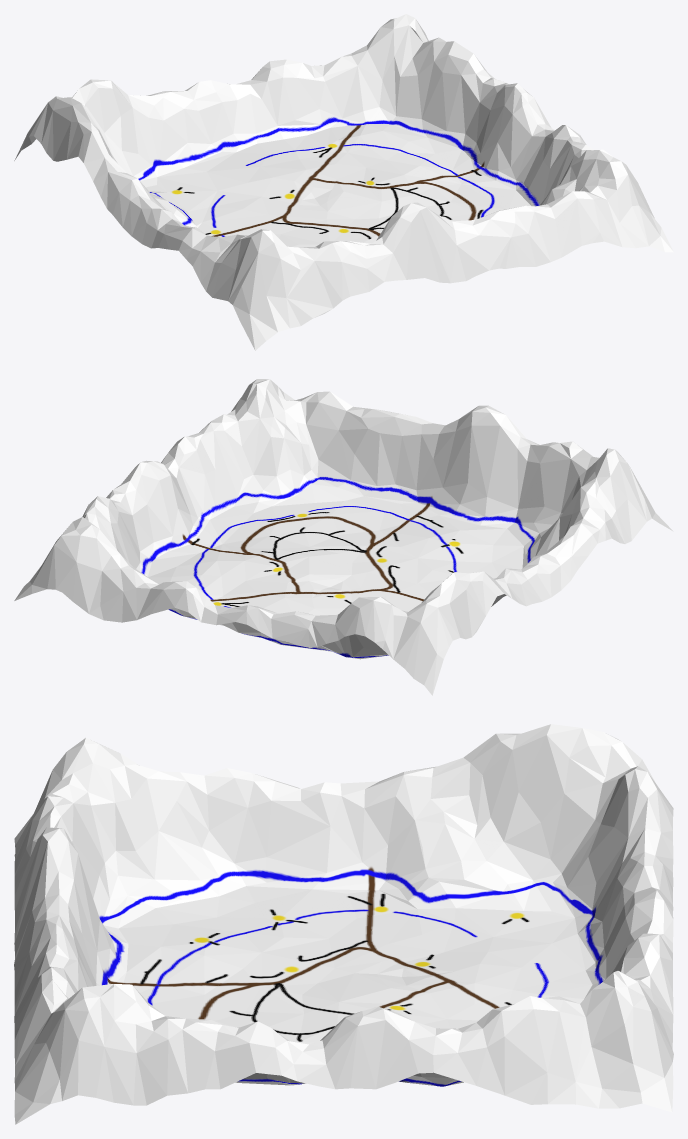
Rendered from Terrain+Texture.fbx.
3 views of the same model, one above another, from view 1: azimuth 30°, elevation 25°; view 2: azimuth 150°, elevation 25°; view 3: azimuth 270°, elevation 25° (orthographic). The views are drawn at different scales.
Visible parts, largest first — view 1: Terrain; view 2: Terrain; view 3: Terrain.
Boxes of the visible parts, x1,y1,x2,y2 form: Terrain: [14, 14, 673, 350]; Terrain: [14, 379, 673, 695]; Terrain: [14, 724, 673, 1124].
Bounding box in the file's own units: 97700 × 22574 × 97745.
1 material, 1 textured.
